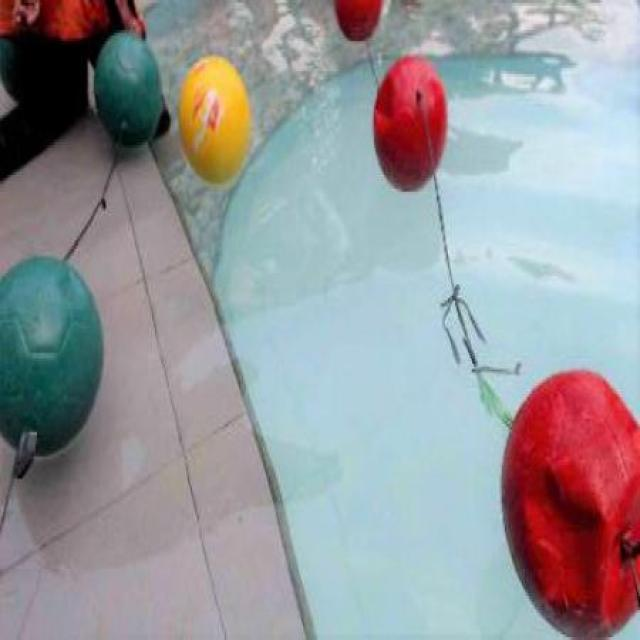buoy: (498, 368, 640, 639), (0, 253, 101, 457), (371, 55, 447, 191), (178, 55, 250, 185), (92, 31, 160, 144), (332, 0, 381, 38)
